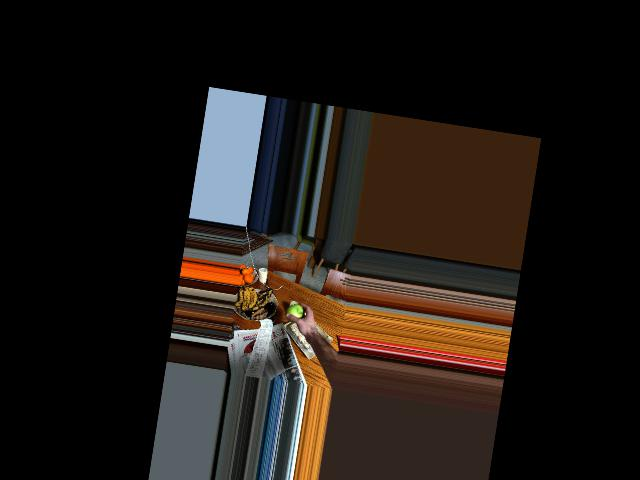apple: (285, 303, 309, 330)
